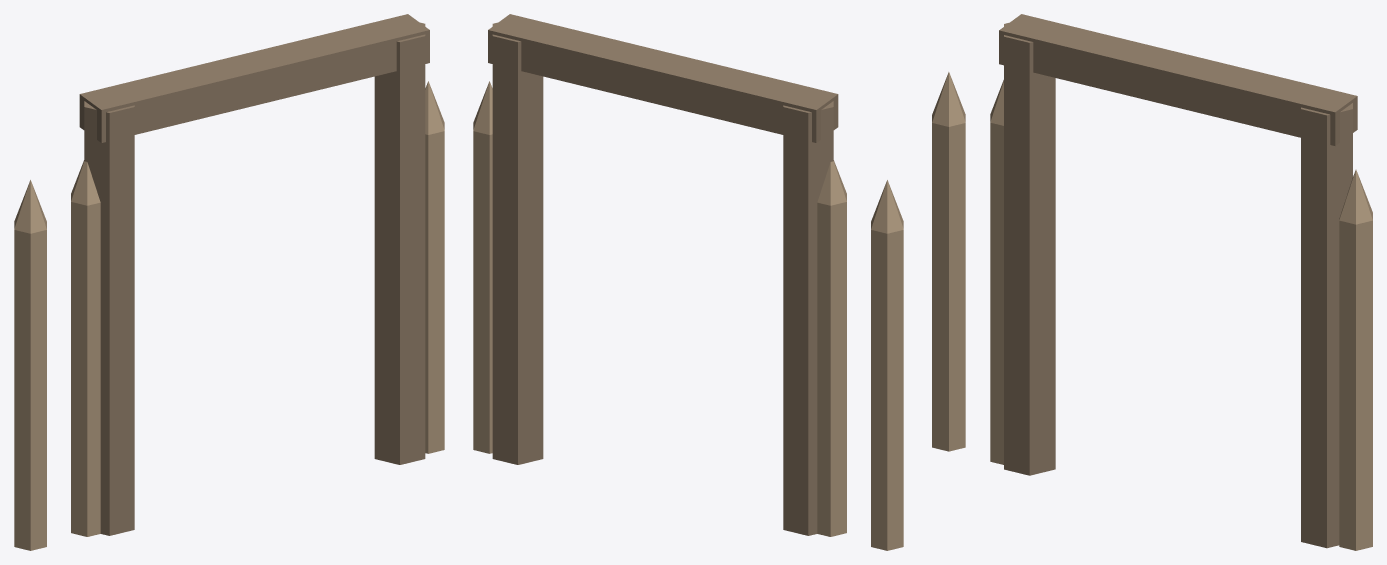
Rendered from palizzata_porta.glb.
The picture shows the model from 3 angles, left to right: view 1: azimuth 30°, elevation 25°; view 2: azimuth 150°, elevation 25°; view 3: azimuth 330°, elevation 25°; orthographic projection. The views are drawn at different scales.
Visible parts, largest first — view 1: palizzata_porta; view 2: palizzata_porta; view 3: palizzata_porta.
Boxes of the visible parts, x1=… form: palizzata_porta: x1=14, y1=14, x2=444, y2=550; palizzata_porta: x1=473, y1=14, x2=903, y2=550; palizzata_porta: x1=932, y1=14, x2=1372, y2=550.
Bounding box in the file's own units: 3.41 × 3.22 × 0.3464.
